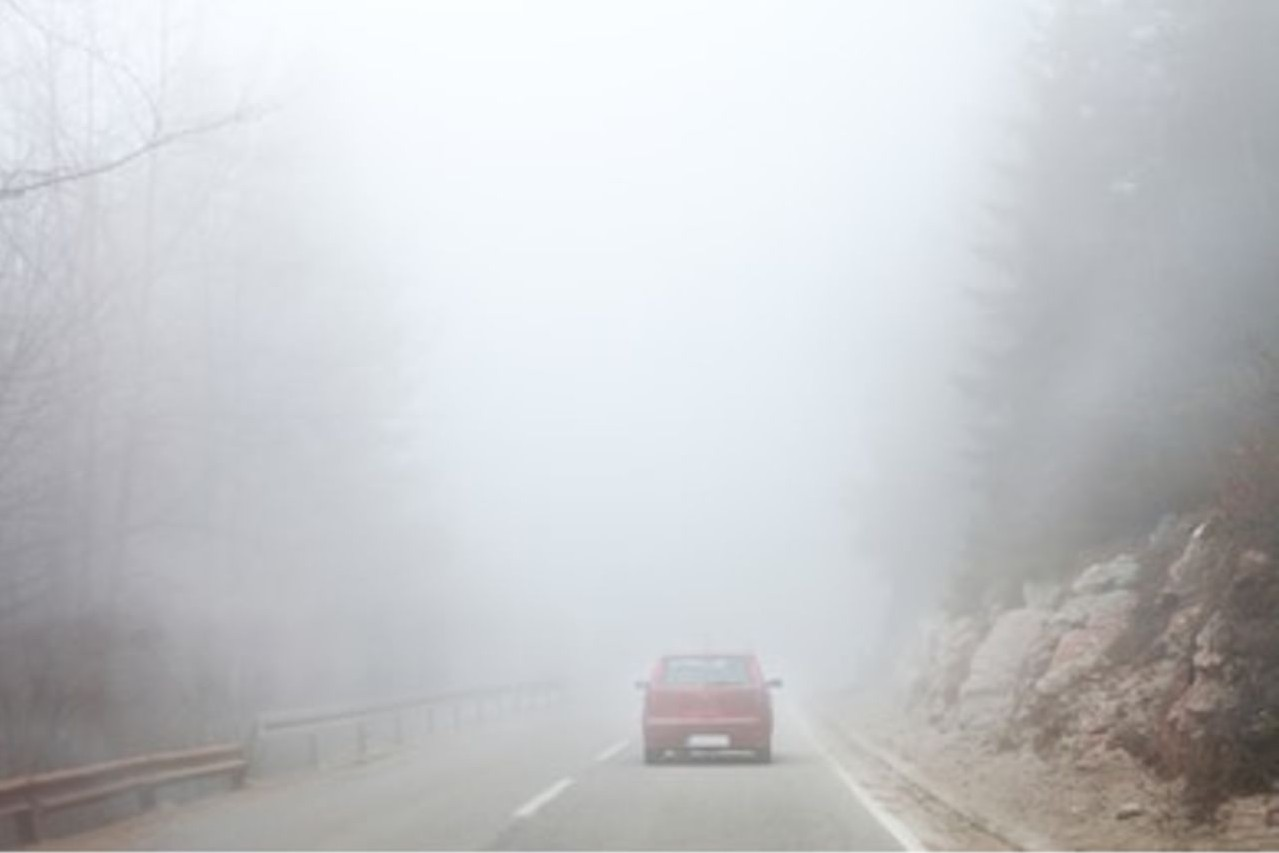car: (637, 648, 779, 762)
